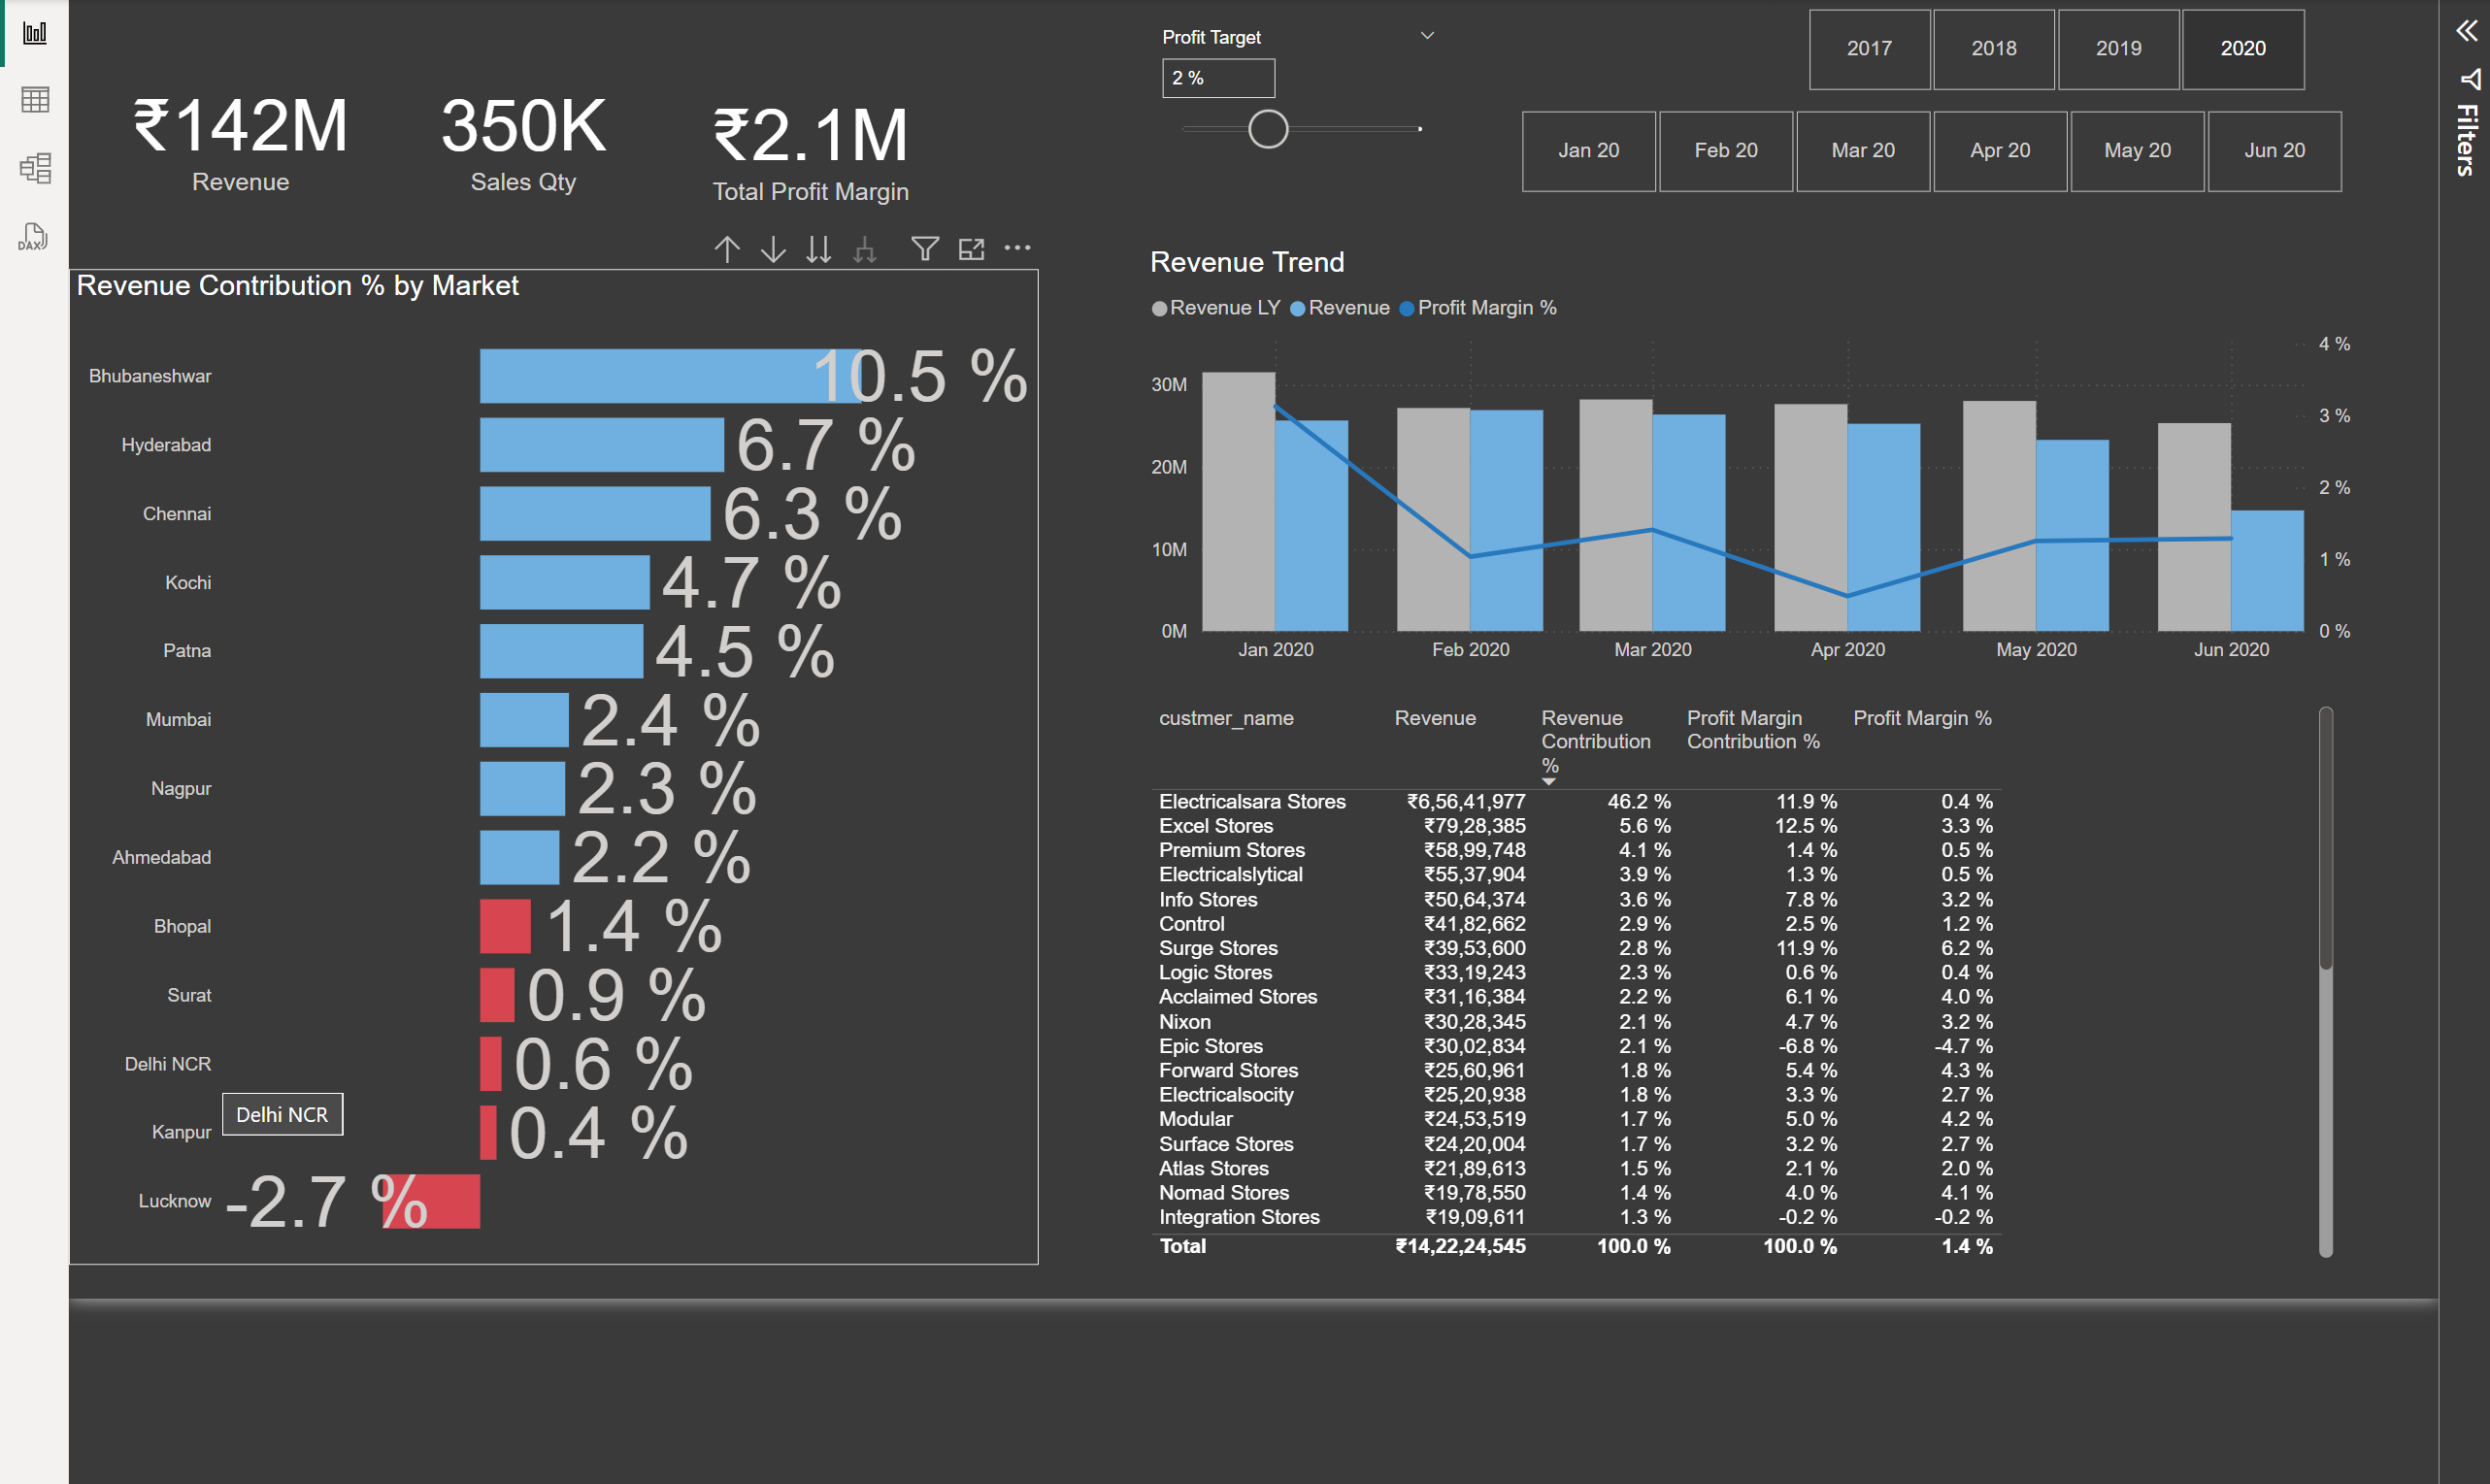

Layout of this report page (visuals, bound fields, positions):
{"tool":"powerbi","page":{"name":"Performance Insights","canvas":[1550,850],"ordinal":2},"visuals":[{"type":"card","fields":{"Values":["BaseMeasures (2).Revenue"]},"box":[22.1,15.3,180.2,146.2],"z":0},{"type":"card","fields":{"Values":["BaseMeasures (2).Sales Qty"]},"box":[215.9,15.3,163.2,146.2],"z":1000},{"type":"slicer","fields":{"Values":["sales date.year"]},"box":[1111.8,0,374,66.3],"z":2000},{"type":"slicer","fields":{"Values":["sales date.cy_date"]},"box":[924.8,66.3,586.5,66.3],"z":3000},{"type":"tableEx","title":"Top 5 Customers","fields":{"Values":["sales customers.custmer_name","BaseMeasures (2).Revenue","BaseMeasures (2).Revenue Contribution %","BaseMeasures (2).Profit Margin Contribution %","BaseMeasures (2).Profit Margin %"]},"box":[702.1,457.3,783.7,370.6],"z":4000},{"type":"lineClusteredColumnComboChart","title":"Revenue Trend","fields":{"Category":["sales date.cy_date"],"Y":["BaseMeasures (2).Revenue LY","BaseMeasures (2).Revenue"],"Y2":["BaseMeasures (2).Profit Margin %"]},"box":[702.1,161.5,795.6,280.5],"z":5000},{"type":"card","fields":{"Values":["BaseMeasures (2).Total Profit Margin"]},"box":[404.6,13.6,161.5,163.2],"z":6000},{"type":"barChart","title":"Revenue Contribution % by Market","fields":{"Y":["BaseMeasures (2).Profit Margin %"],"Category":["sales markets.zone","sales markets.markets_name","sales customers.custmer_name","sales products.product_code"]},"box":[0,176.8,634.1,651.1],"z":7000},{"type":"slicer","fields":{"Values":["Profit Target.Profit Target"]},"box":[702.1,13.6,204,119],"z":8000}]}

Visuals, with their boxes on the page's 1550x850 design canvas (x1, y1, x2, y2). These are canvas units, not pixel positions in the 2490x1484 screenshot, which may show the page scaled, cropped or inside an application window:
card - BaseMeasures (2).Revenue: (22,15,202,162)
card - BaseMeasures (2).Sales Qty: (216,15,379,162)
slicer - sales date.year: (1112,0,1486,66)
slicer - sales date.cy_date: (925,66,1511,133)
"Top 5 Customers" tableEx: (702,457,1486,828)
"Revenue Trend" lineClusteredColumnComboChart: (702,162,1498,442)
card - BaseMeasures (2).Total Profit Margin: (405,14,566,177)
"Revenue Contribution % by Market" barChart: (0,177,634,828)
slicer - Profit Target.Profit Target: (702,14,906,133)
